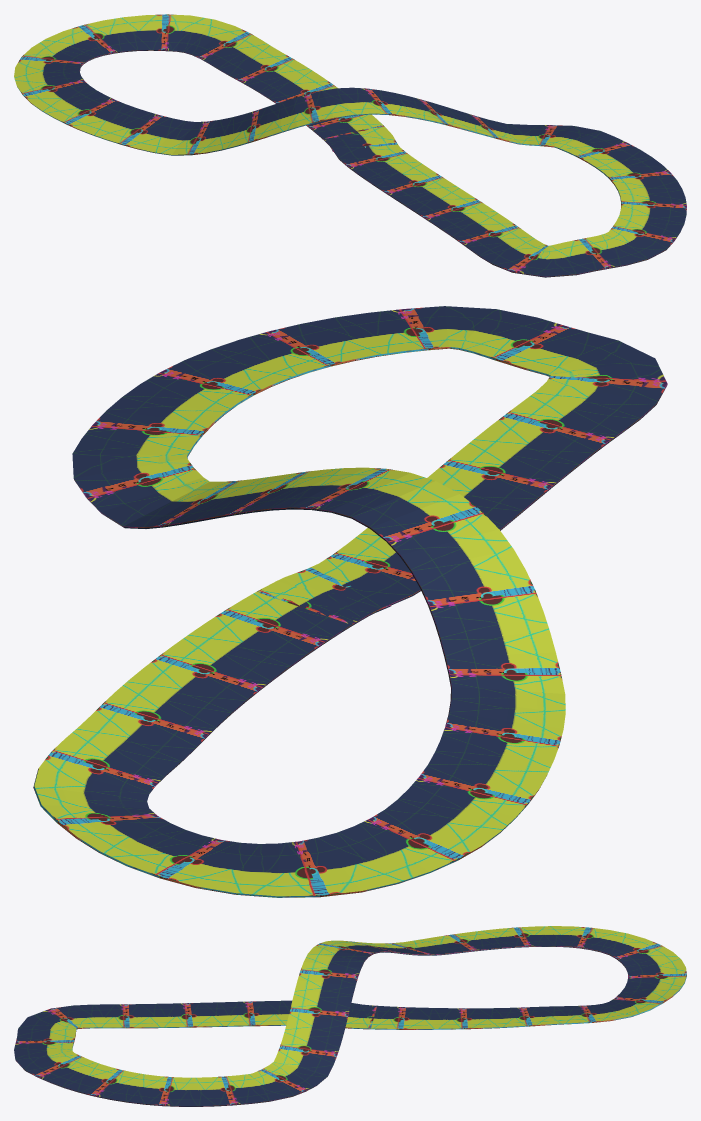
Rendered from biggertrack1.obj.
3 views of the same model, one above another, from view 1: azimuth 30°, elevation 25°; view 2: azimuth 150°, elevation 25°; view 3: azimuth 270°, elevation 25° (orthographic). The views are drawn at different scales.
Parts seen in each view (by area): view 1: Cube; view 2: Cube; view 3: Cube.
Part boxes in pixels (box(x1,y1,x2,y2)): Cube: box(14, 14, 686, 277); Cube: box(33, 306, 667, 897); Cube: box(14, 926, 686, 1106).
Bounding box in the file's own units: 234 × 32.38 × 373.
1 material, 1 textured.
